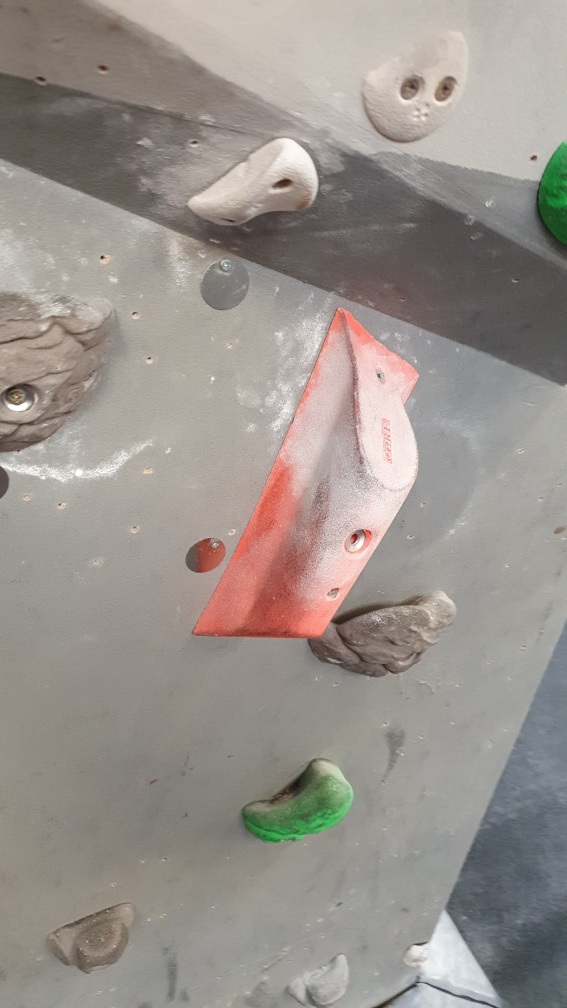Hand Start: (198, 255, 254, 315), (185, 535, 232, 577)
Jug: (1, 284, 125, 461), (305, 587, 461, 681), (239, 755, 359, 845)
Pinch: (194, 304, 423, 644)
